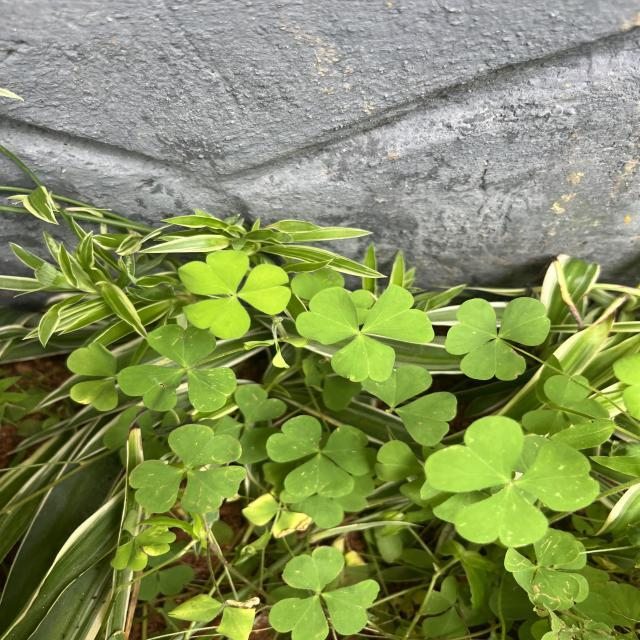Oxalis corniculata: (423, 414, 600, 548), (295, 283, 437, 383), (128, 423, 249, 514), (268, 545, 382, 640), (118, 324, 238, 414), (176, 248, 293, 340), (266, 414, 378, 498), (444, 296, 552, 381)
